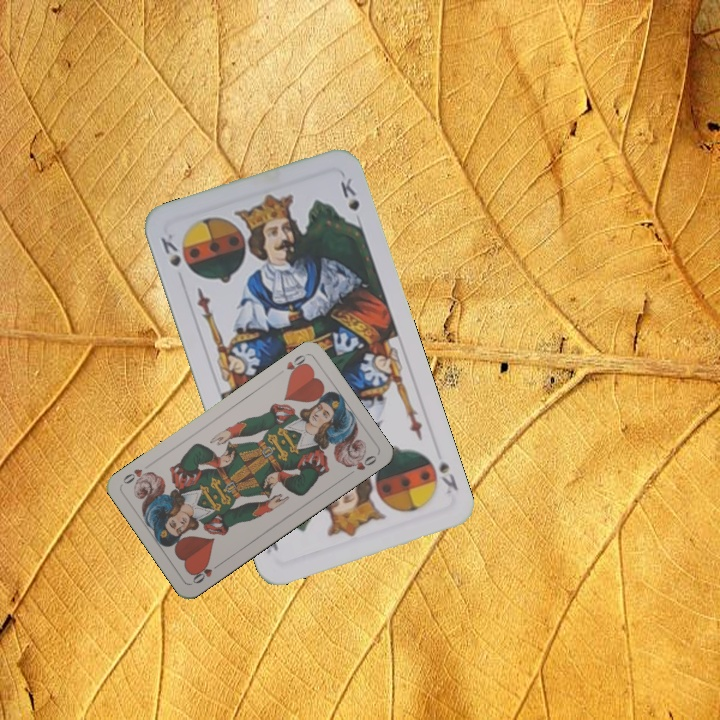HO: (273, 350, 310, 380), (188, 558, 224, 587)
SK: (156, 229, 184, 270), (434, 457, 461, 497)
